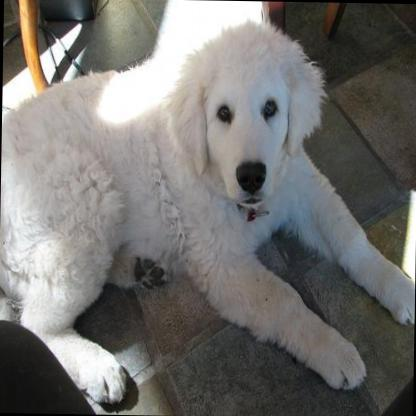kuvasz: (0, 11, 416, 412)
